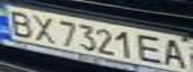1: (112, 28, 136, 61)
2: (93, 26, 115, 56)
3: (75, 21, 96, 52)
7: (54, 17, 78, 47)
A: (160, 37, 193, 70)
B: (3, 7, 39, 38)
E: (136, 33, 166, 65)
X: (27, 12, 60, 43)
